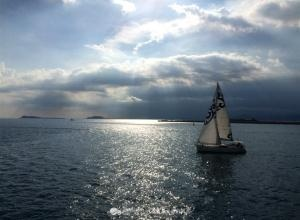fanchuan: (189, 84, 252, 158)
